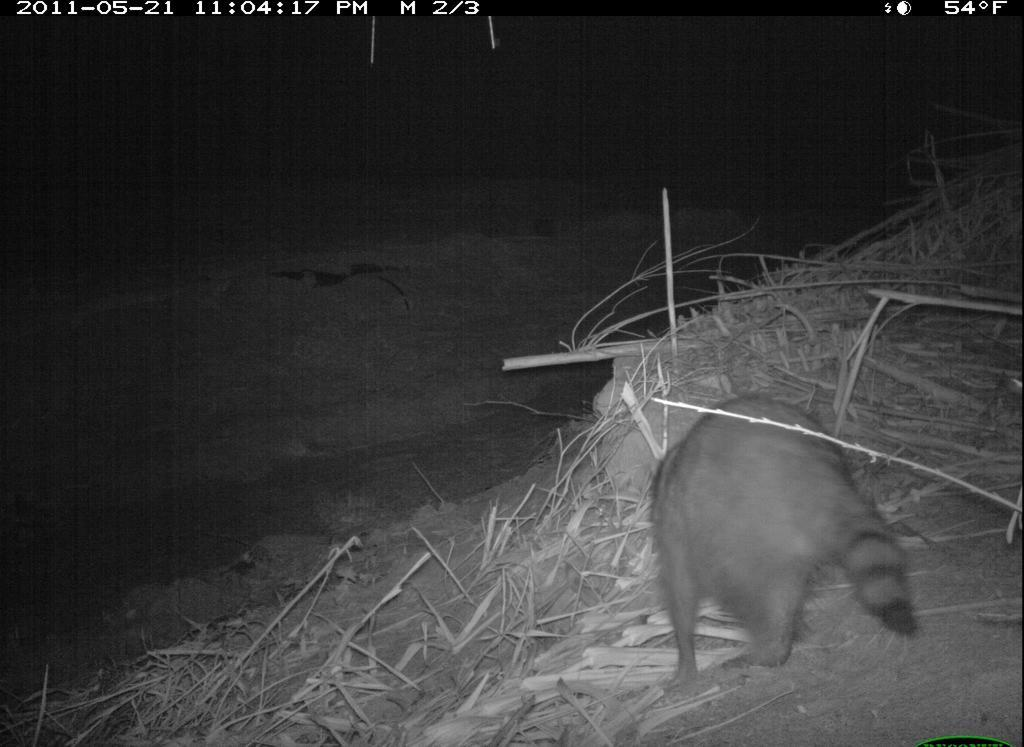raccoon: (628, 381, 944, 692)
